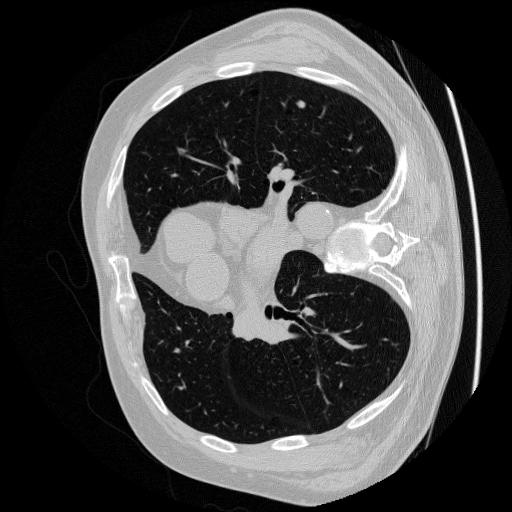nodule: (294, 98, 308, 112)
